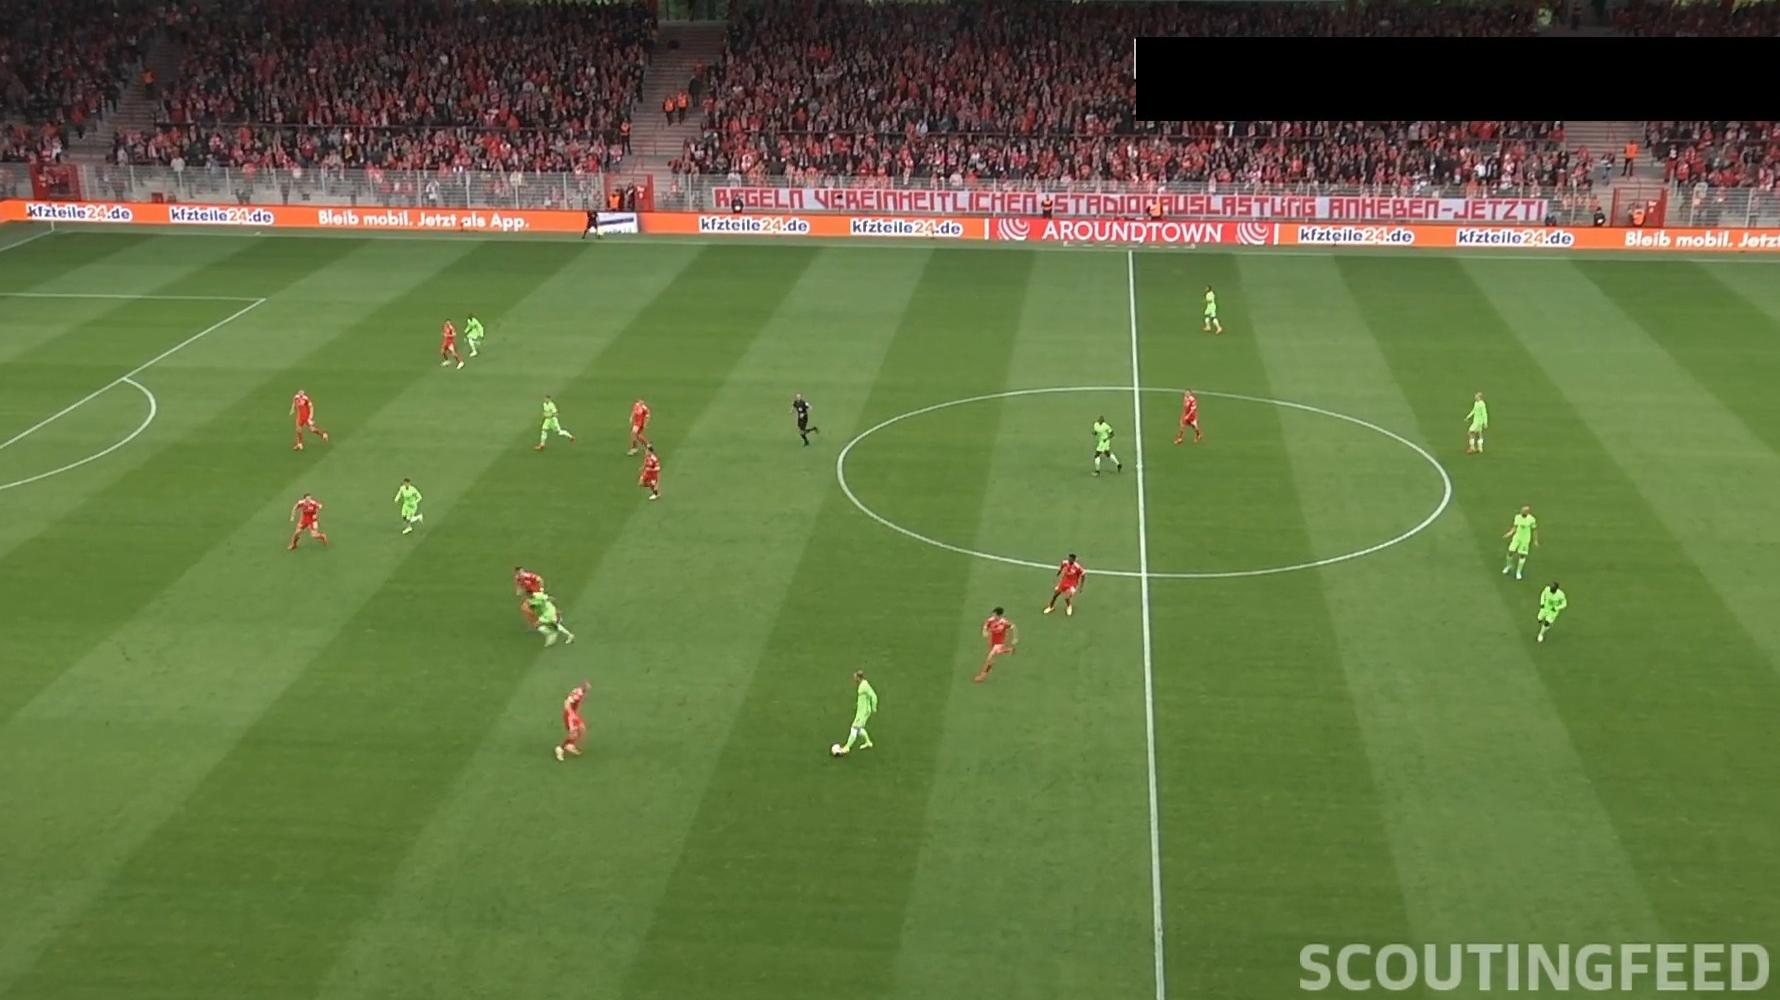ball: (830, 742, 842, 756)
